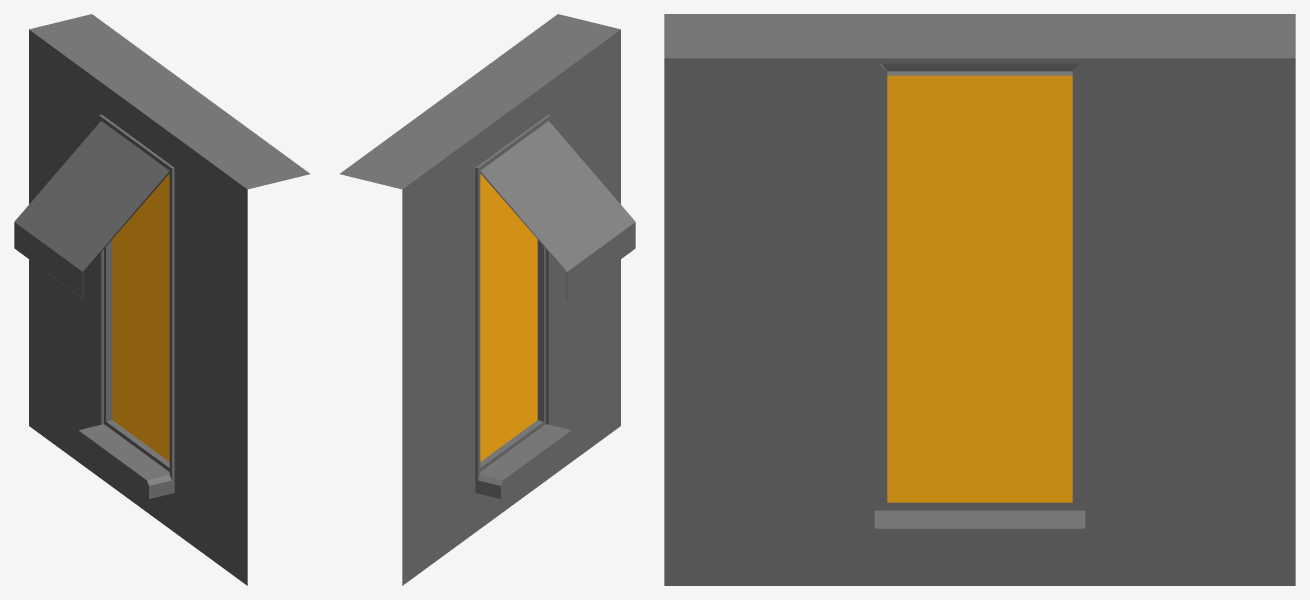
The model's file is O_Façade_Fenêtre_Petit_Volet_Simple.fbx.
3 views of the same model, side by side, from view 1: azimuth 30°, elevation 25°; view 2: azimuth 150°, elevation 25°; view 3: azimuth 270°, elevation 25° (orthographic). The views are drawn at different scales.
Visible parts, largest first — view 1: O_Façade_Fenêtre_Petit_Volet_Simple; view 2: O_Façade_Fenêtre_Petit_Volet_Simple; view 3: O_Façade_Fenêtre_Petit_Volet_Simple.
Part boxes in pixels (box(x1,y1,x2,y2)): O_Façade_Fenêtre_Petit_Volet_Simple: box(14, 14, 310, 585); O_Façade_Fenêtre_Petit_Volet_Simple: box(339, 14, 635, 585); O_Façade_Fenêtre_Petit_Volet_Simple: box(664, 14, 1295, 585).
Bounding box in the file's own units: 1.21 × 3 × 3.
